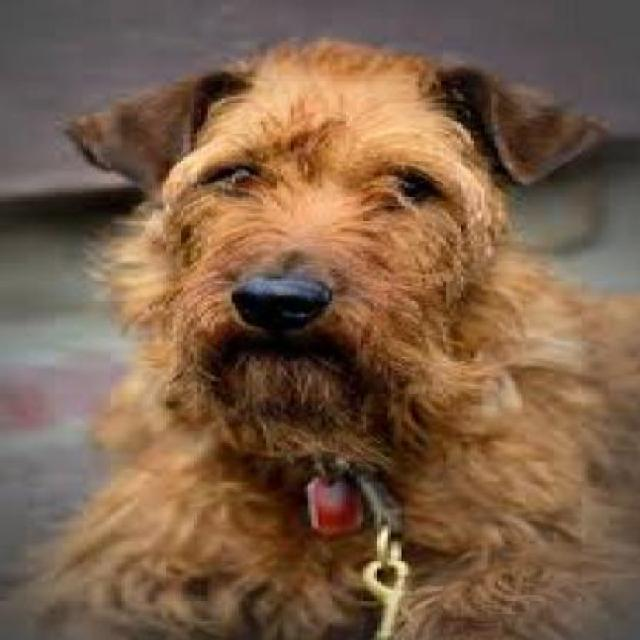animals: (51, 20, 640, 637)
